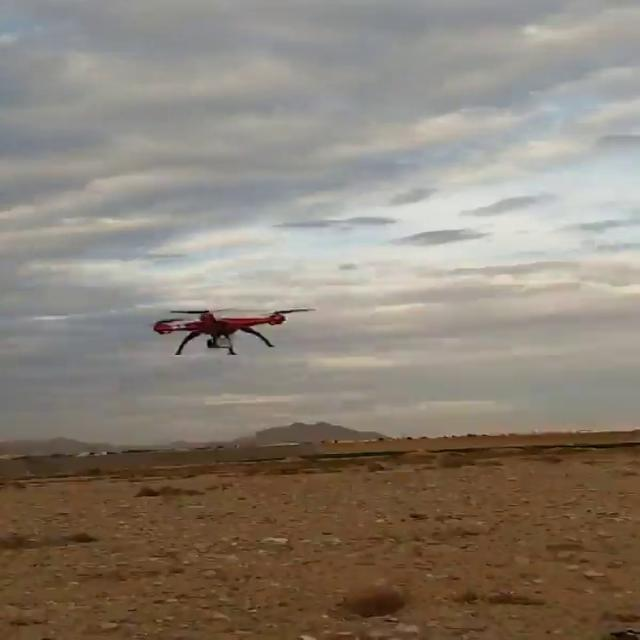drone: (145, 297, 328, 361)
